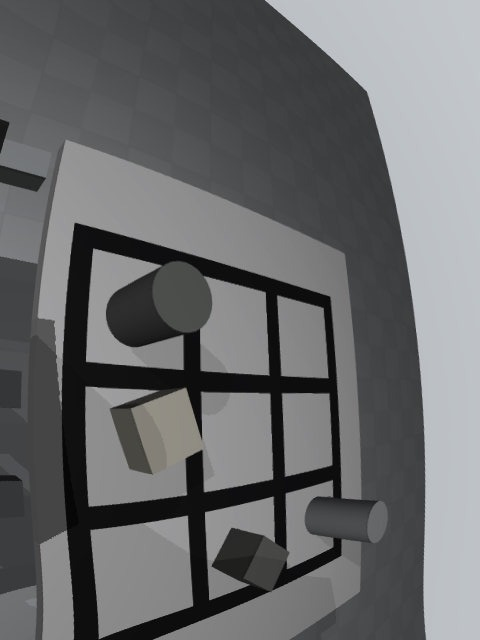can: (304, 496, 388, 543)
cube: (211, 528, 289, 592)
cylinder: (106, 261, 212, 347)
foam: (110, 387, 204, 475)
